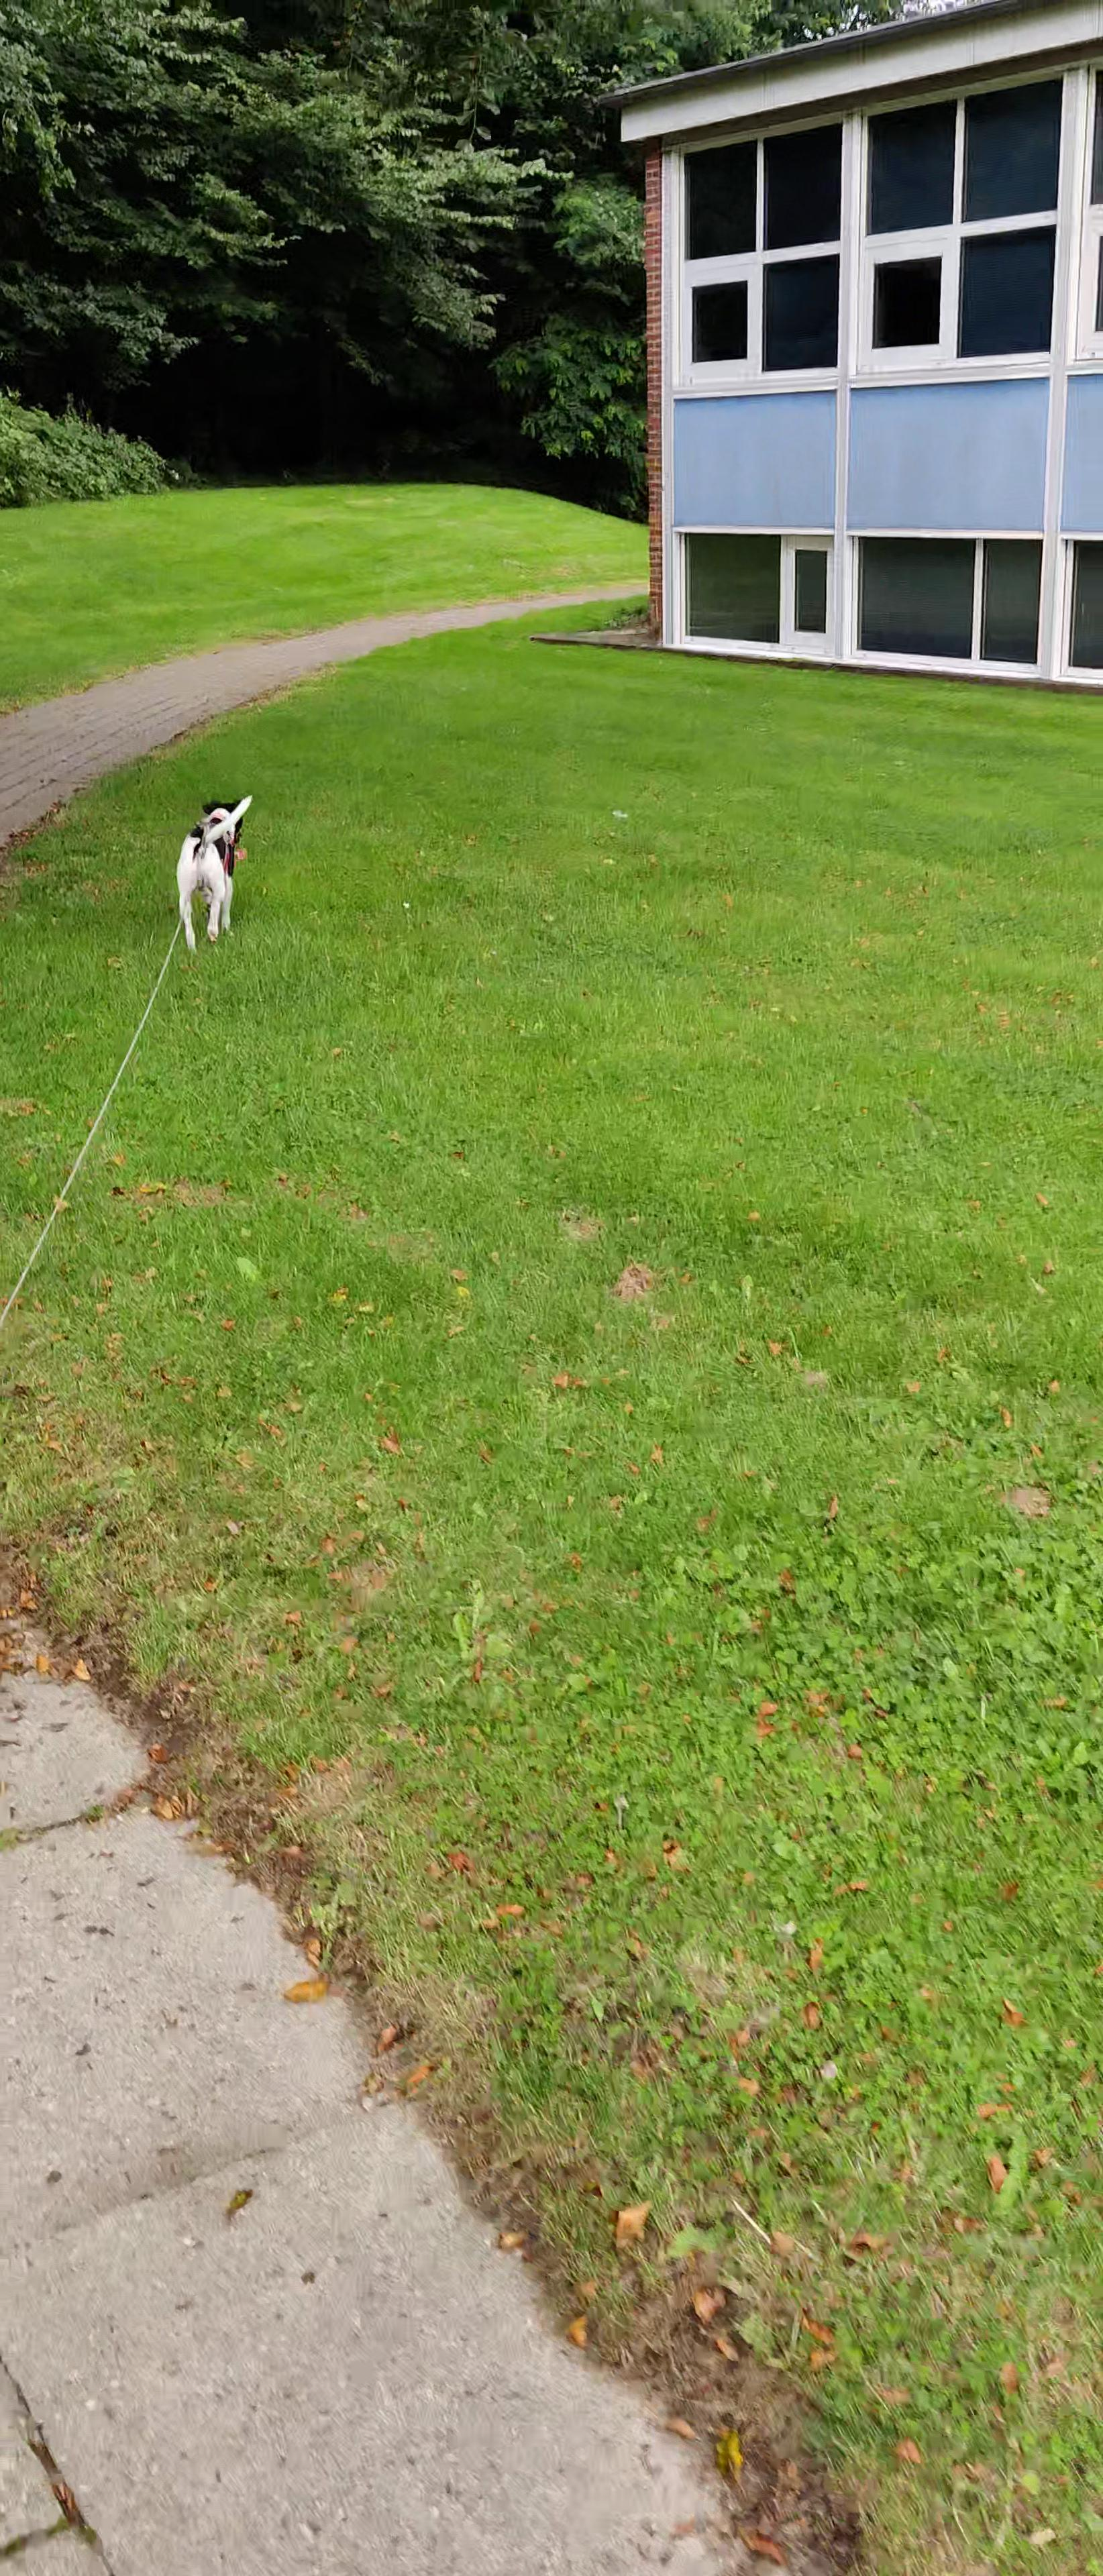Dog: (168, 787, 255, 954)
